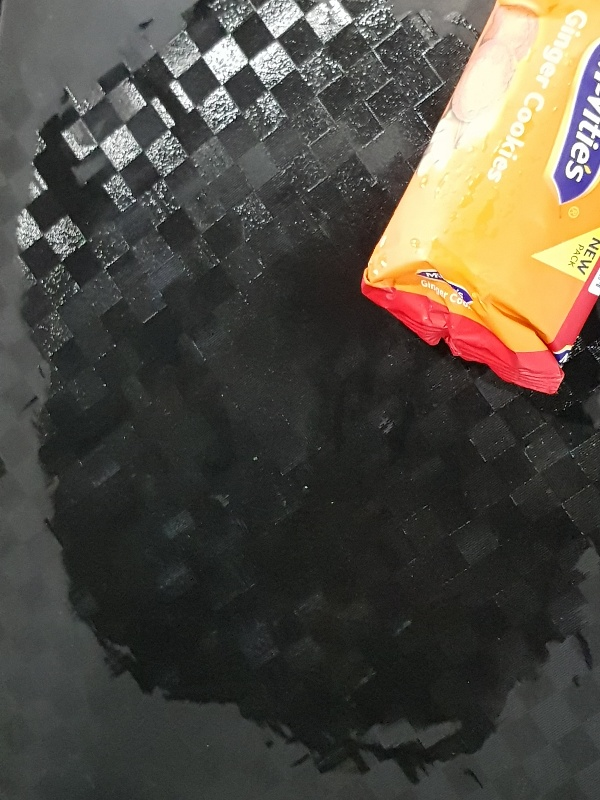McVitie's Ginger Cookies: (360, 1, 600, 394)
